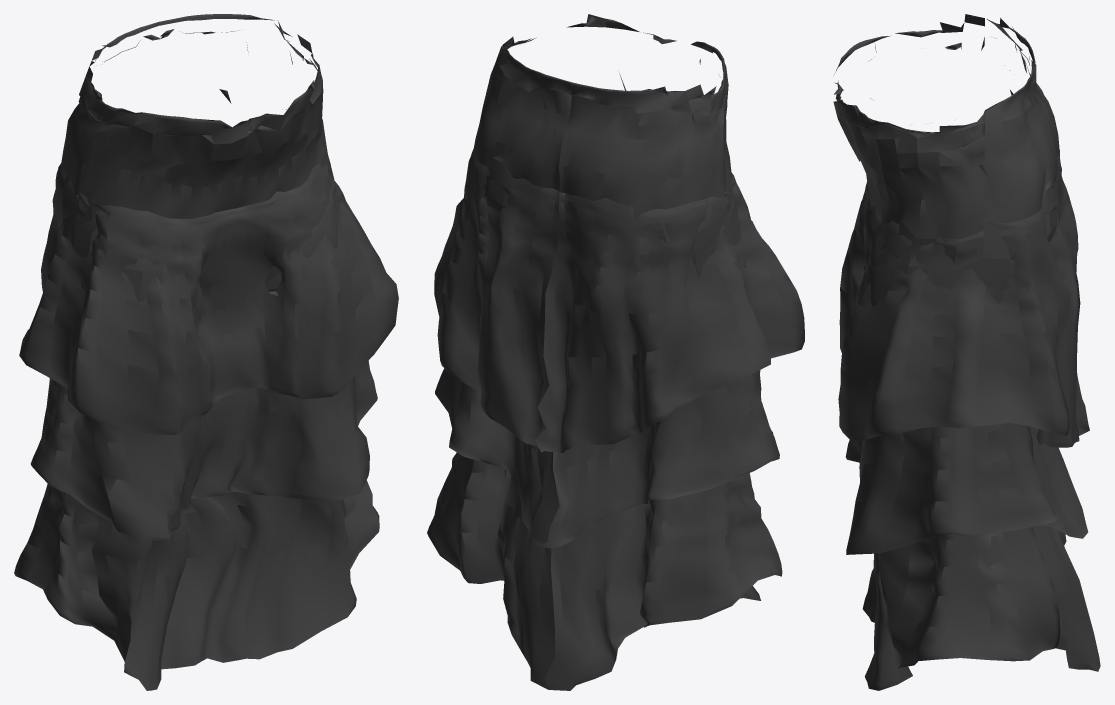
Rendered from cc_tieredskirt.glb.
3 views of the same model, side by side, from view 1: azimuth 30°, elevation 25°; view 2: azimuth 150°, elevation 25°; view 3: azimuth 270°, elevation 25° (orthographic). The views are drawn at different scales.
Parts seen in each view (by area): view 1: geometry_0; view 2: geometry_0; view 3: geometry_0.
Boxes of the visible parts, <box> form: geometry_0: <box>14,14,398,690</box>; geometry_0: <box>427,14,804,690</box>; geometry_0: <box>833,14,1100,690</box>.
Size of the model in its own units: 0.3102 by 0.516 by 0.2037.
1 material, 1 textured.
